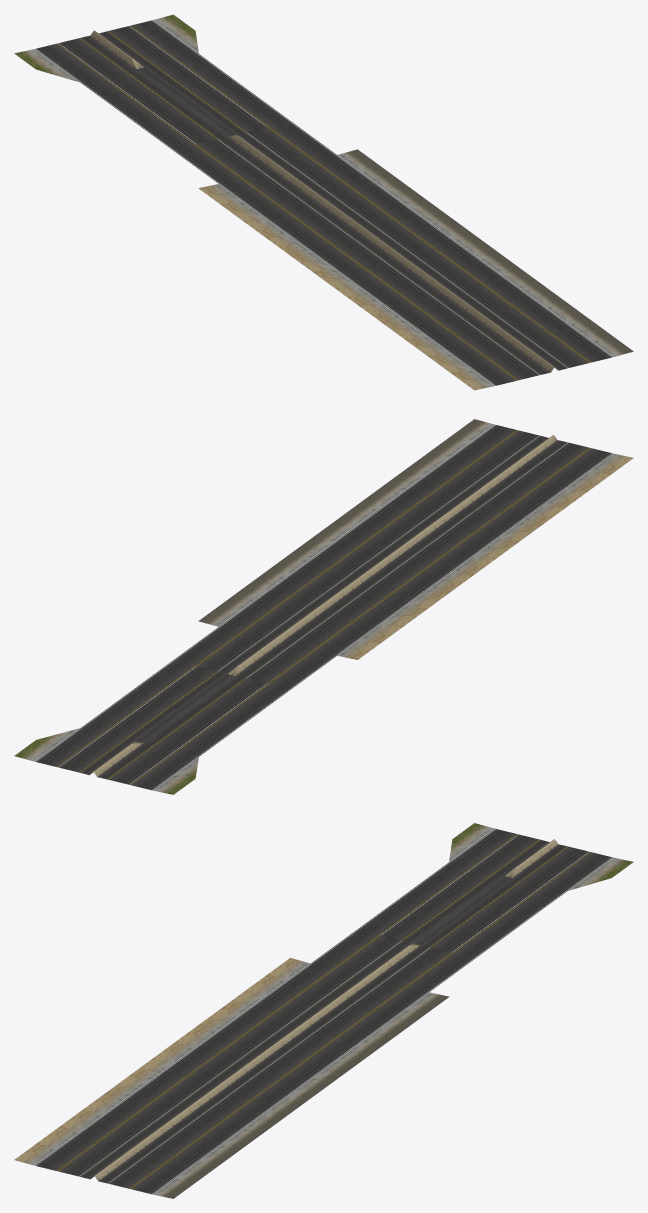
The model's file is vegassroad046.obj.
The picture shows the model from 3 angles, top to bottom: view 1: azimuth 30°, elevation 25°; view 2: azimuth 150°, elevation 25°; view 3: azimuth 330°, elevation 25°; orthographic projection.
Parts seen in each view (by area): view 1: VegasSroad046; view 2: VegasSroad046; view 3: VegasSroad046.
Part boxes in pixels (<box>): VegasSroad046: <box>14,14,633,390</box>; VegasSroad046: <box>14,419,633,794</box>; VegasSroad046: <box>14,823,633,1198</box>.
Size of the model in its own units: 40 by 0.9823 by 200.
Materials: 6 (6 with a texture image).
